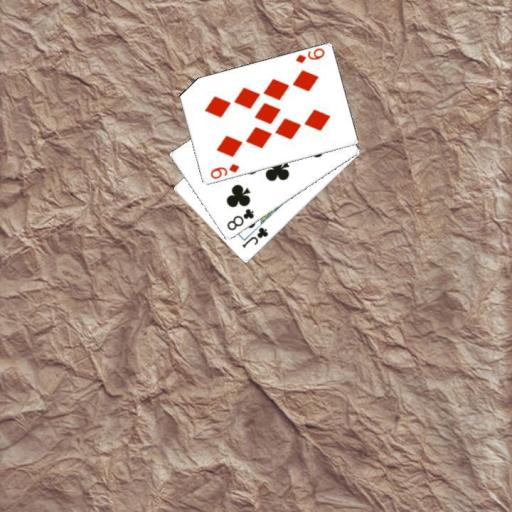8C: (224, 206, 256, 233)
9D: (292, 46, 326, 66), (207, 161, 240, 181)
JC: (239, 224, 269, 250)
